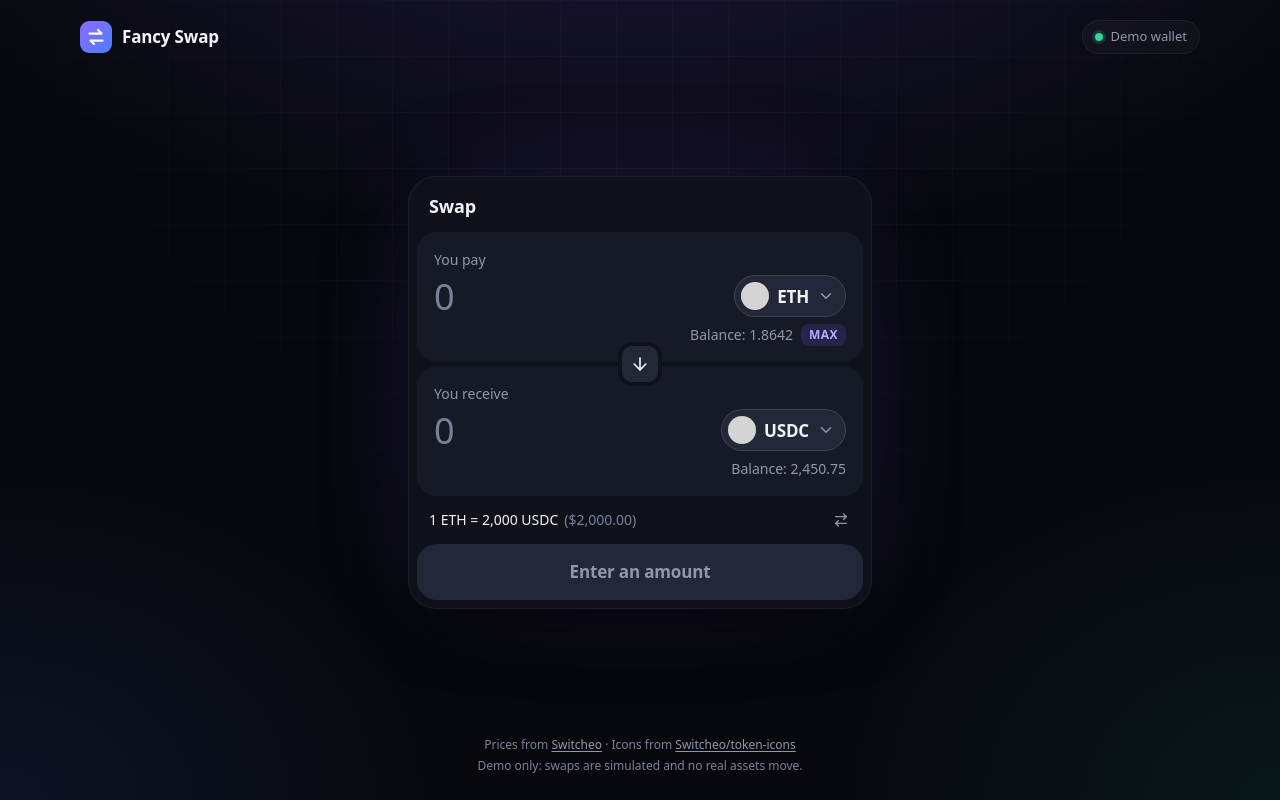
it: swap form › picks a token from a searchable list with the keyboard
Step 1. Click the button with aria-label "ETH, change token to pay with" → (790, 296), box [734,275,846,317]
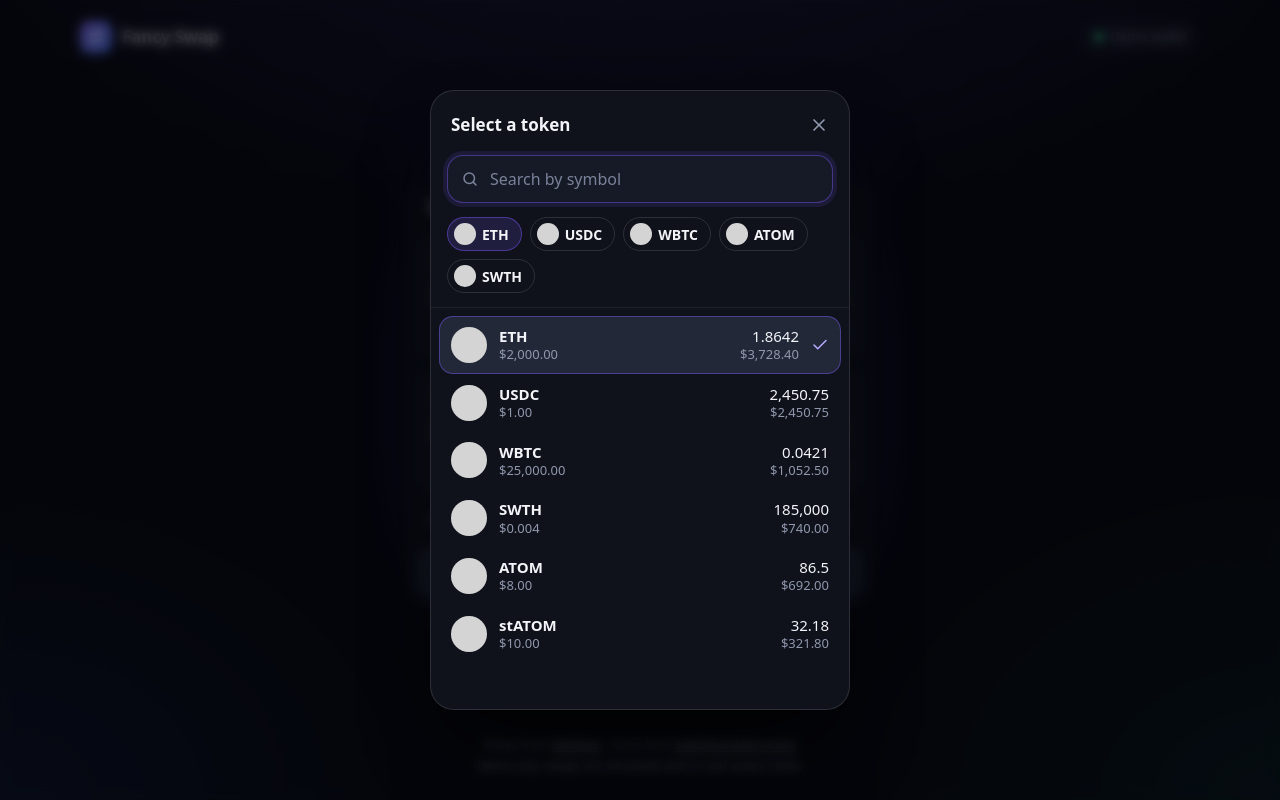
Step 2. Type "atom" into the dropdown named "Search tokens" → (640, 179), box [447,155,833,203]
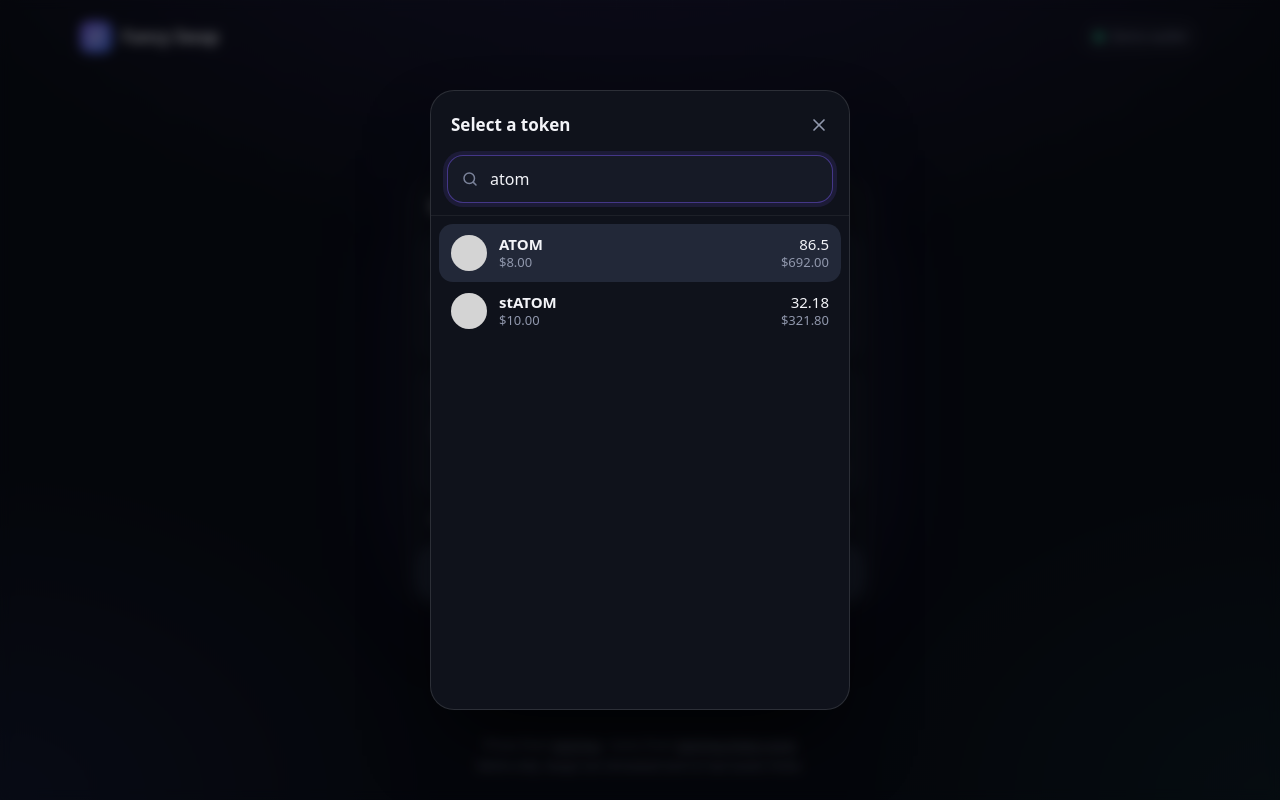
Step 3. Press Arrowdown Enter
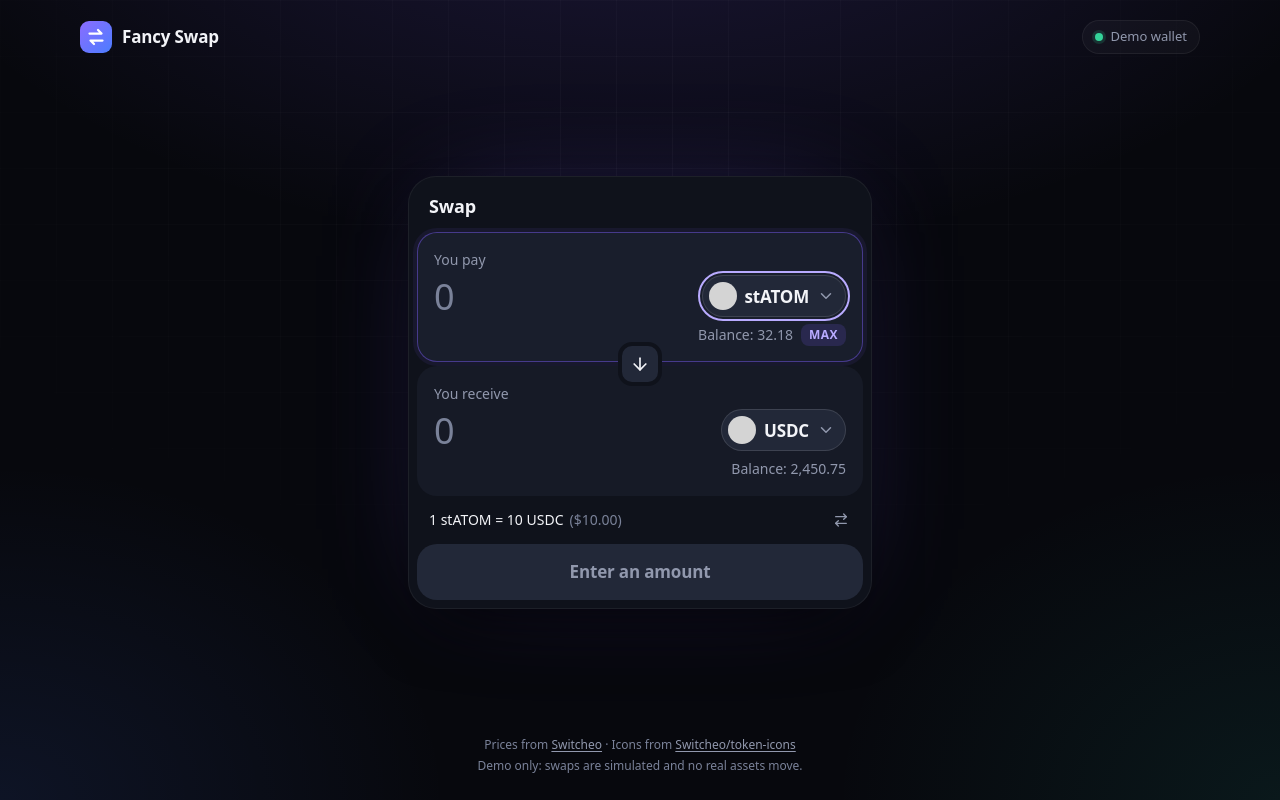
expect the dialog is gone: met
